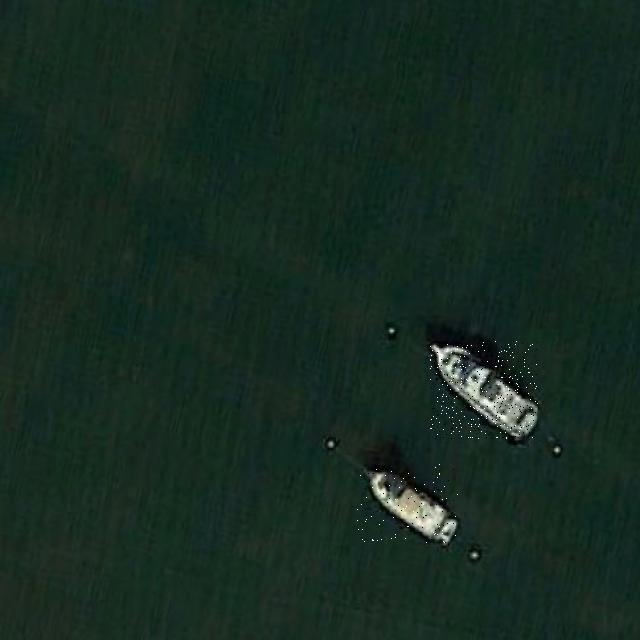boat: (430, 342, 538, 439), (357, 464, 458, 543)
